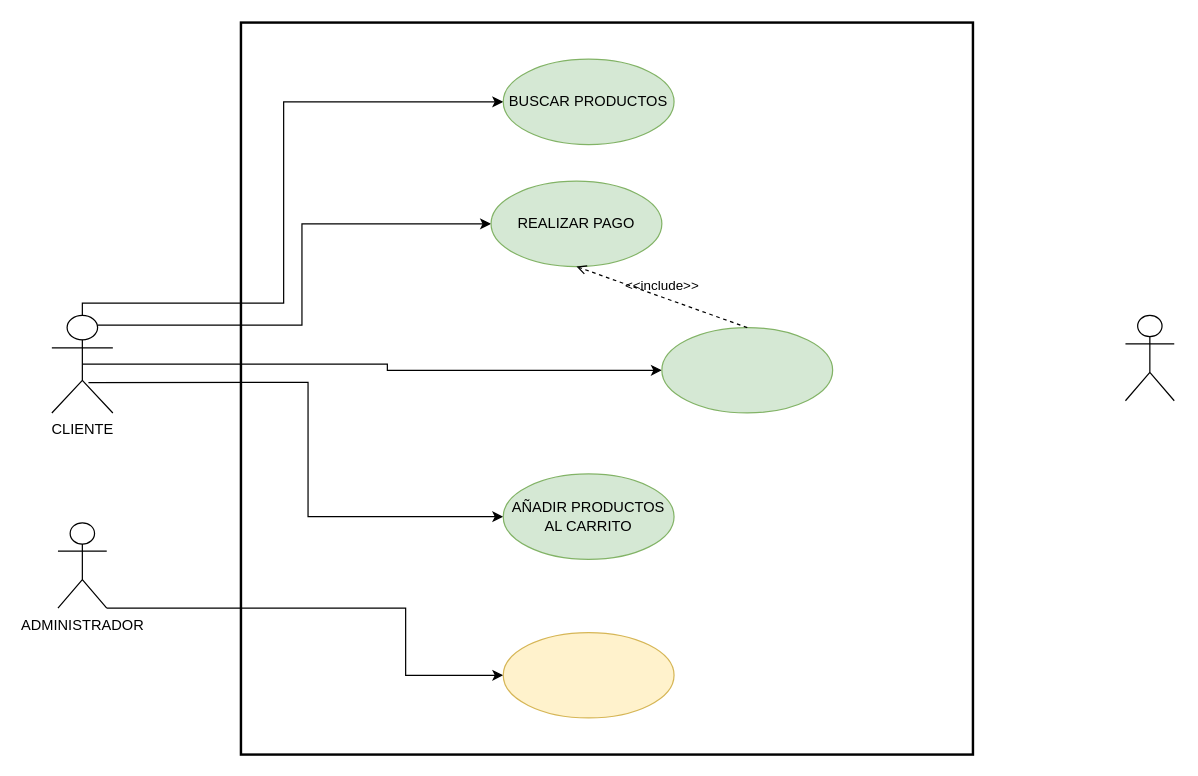
The diagram is 1198 pixels wide and 776 high, and some of its shapes have lost their labels. The centre of each missing label's shape, as x and y in pixels:
"GESTIONAR CATÁLOGO DE PRODUCTOS" goes at point 588,674.
"REALIZAR PEDIDO" goes at point 747,369.
"sistema" goes at point 1149,357.
